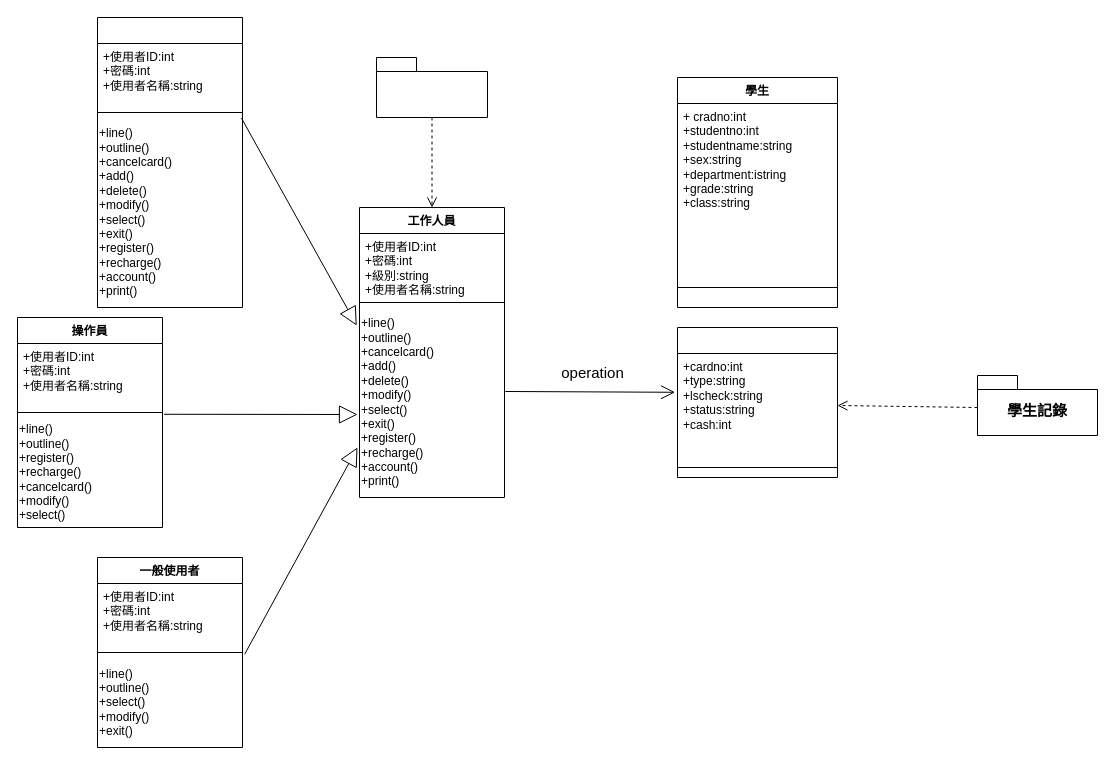
This 1115x765 diagram has some shape labels left out. Each missing label, with the box of its shape:
學生證: (676, 326, 838, 478)
工作人員記錄: (376, 56, 488, 118)
行政人員: (96, 16, 242, 308)
